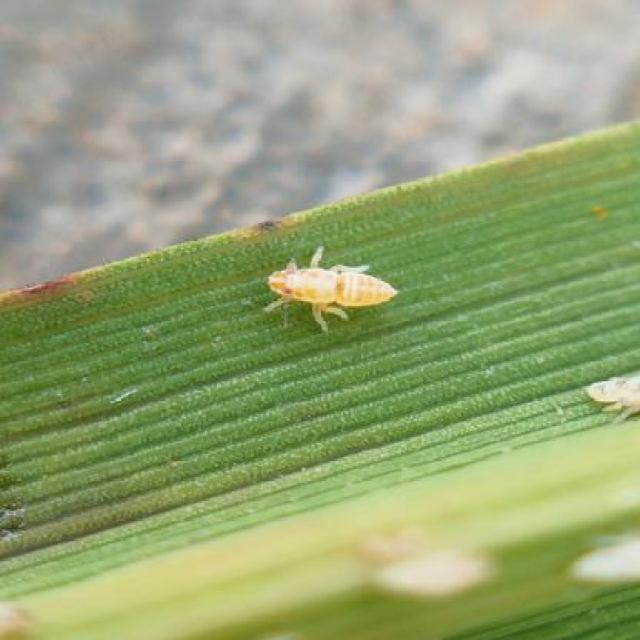rice bug -hama padi-: (258, 243, 398, 334)
wereng pada daun padi: (0, 94, 640, 637)
